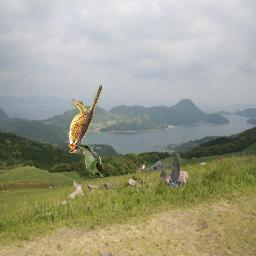Cuckoo: (79, 143, 104, 177)
Sparrow: (68, 85, 102, 153)
Swallow: (159, 154, 181, 189)
